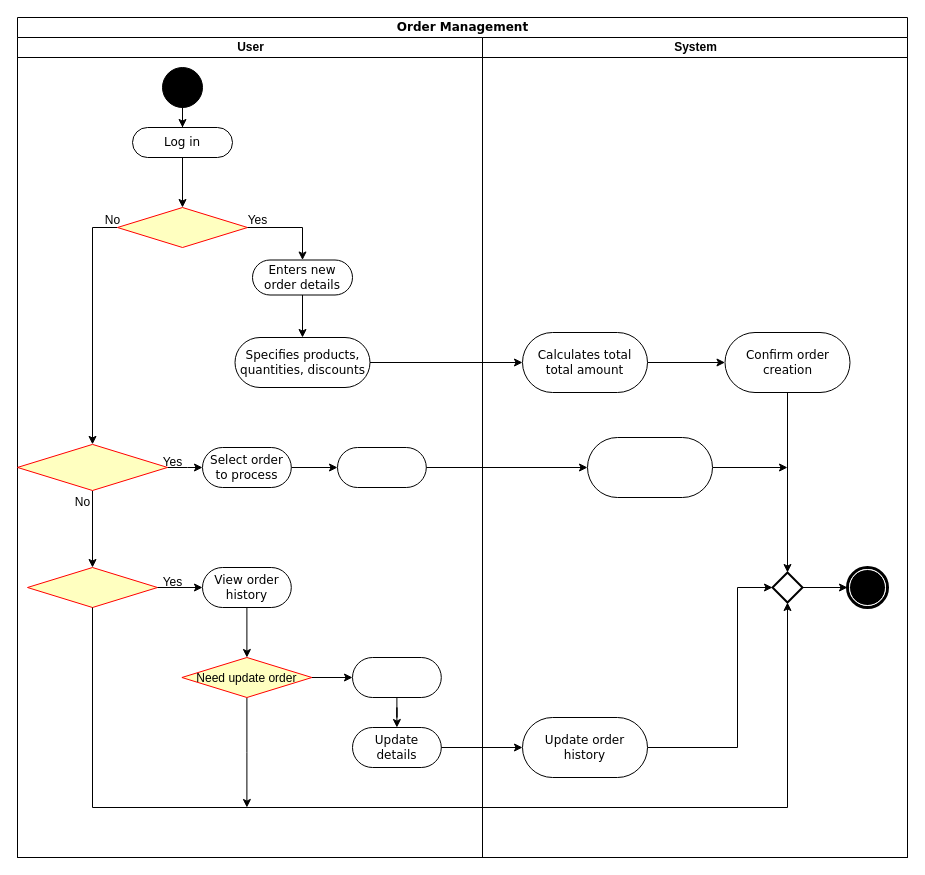
Image size: 925x875. Some labels were removed from this diagram. Here are the shapes that lost their labels. From the top down, the box of each, then its label:
(116, 206, 248, 248): Creating new order
(16, 443, 168, 490): Processing existing order
(336, 446, 426, 488): Update status
(586, 436, 712, 498): System update order status
(26, 566, 158, 608): Managing order history
(352, 656, 441, 698): Select order
